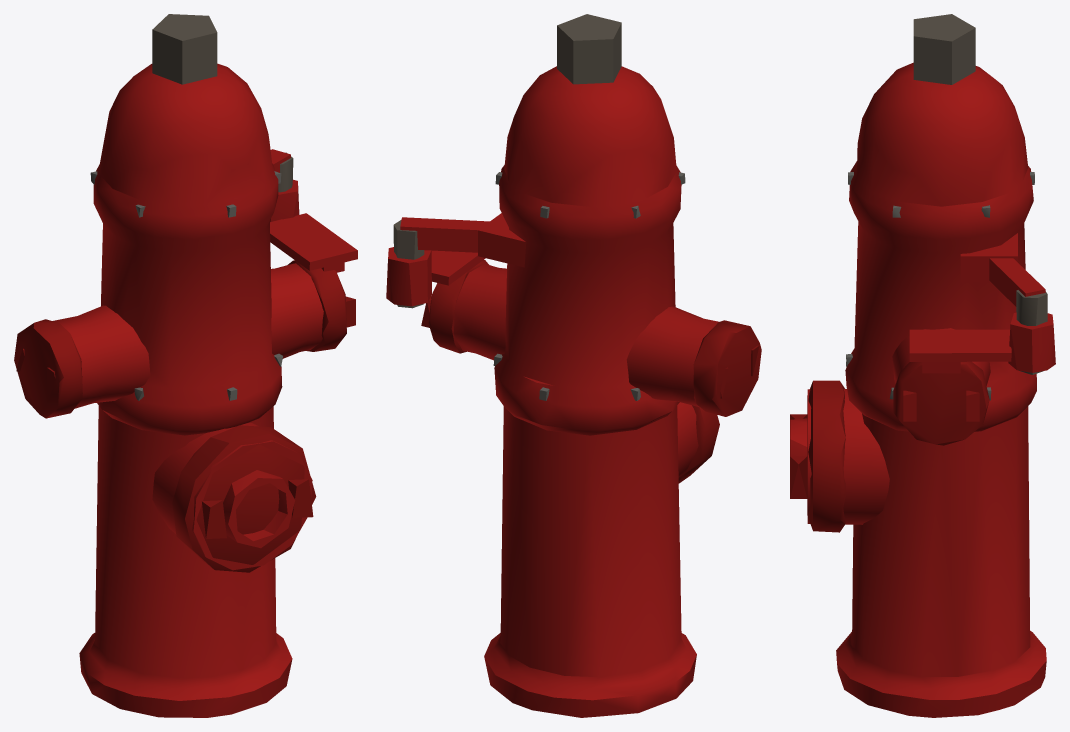
The model's file is hydrant.glb.
3 views of the same model, side by side, from view 1: azimuth 30°, elevation 25°; view 2: azimuth 150°, elevation 25°; view 3: azimuth 270°, elevation 25° (orthographic).
Parts seen in each view (by area): view 1: hydrant_body, front_pumper_cap, nozzle_cap_pivot, left_nozzle_cap, operating_nut; view 2: hydrant_body, nozzle_cap_pivot, left_nozzle_cap, operating_nut, front_pumper_cap; view 3: hydrant_body, nozzle_cap_pivot, front_pumper_cap, operating_nut.
Part boxes in pixels (x1=…): hydrant_body: x1=53, y1=63, x2=323, y2=717; front_pumper_cap: x1=172, y1=425, x2=316, y2=572; nozzle_cap_pivot: x1=270, y1=179, x2=357, y2=351; left_nozzle_cap: x1=14, y1=319, x2=82, y2=418; operating_nut: x1=152, y1=14, x2=217, y2=84; hydrant_body: x1=393, y1=66, x2=718, y2=717; nozzle_cap_pivot: x1=386, y1=247, x2=488, y2=353; left_nozzle_cap: x1=693, y1=320, x2=761, y2=416; operating_nut: x1=557, y1=14, x2=621, y2=84; front_pumper_cap: x1=678, y1=405, x2=719, y2=483; hydrant_body: x1=790, y1=62, x2=1047, y2=717; nozzle_cap_pivot: x1=893, y1=312, x2=1055, y2=445; front_pumper_cap: x1=790, y1=380, x2=845, y2=532; operating_nut: x1=913, y1=14, x2=975, y2=84.
Size of the model in its own units: 0.3712 by 0.7501 by 0.278.
